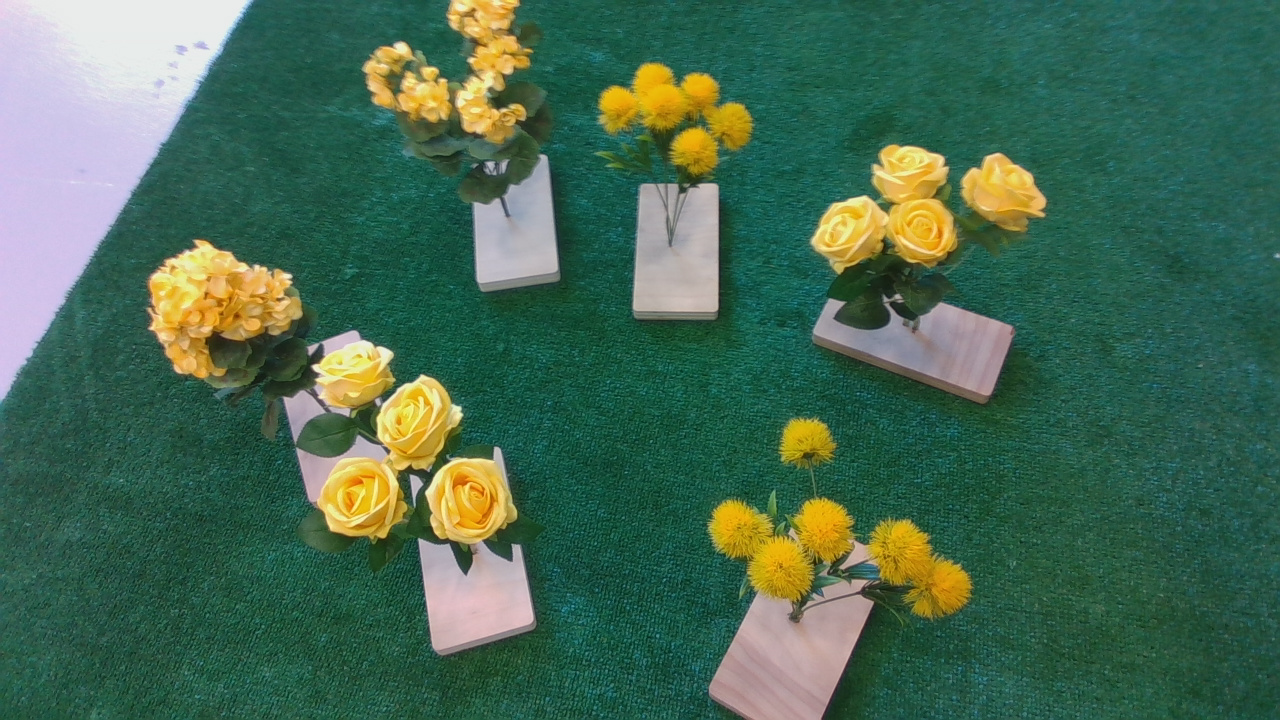dandelion: (706, 419, 982, 627), (594, 63, 768, 205)
geranium: (359, 7, 571, 199), (133, 237, 313, 405)
rose: (313, 335, 552, 574), (801, 146, 1076, 293)
